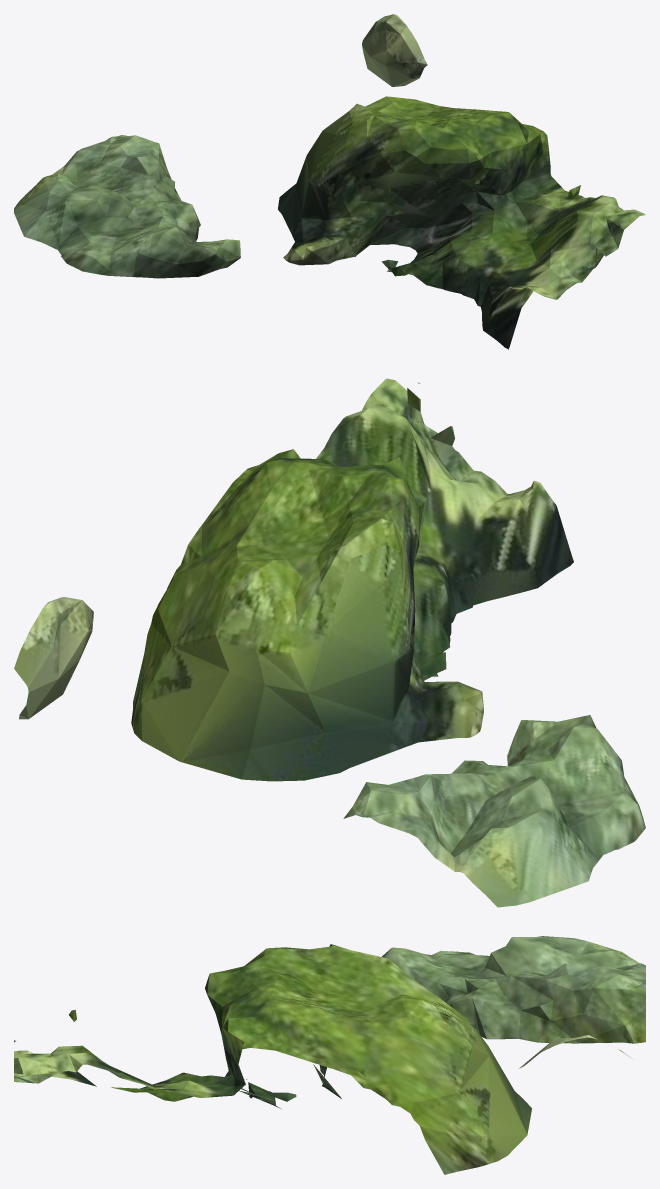
3 renders of one model, top to bottom at view 1: azimuth 30°, elevation 25°; view 2: azimuth 150°, elevation 25°; view 3: azimuth 270°, elevation 25°, orthographic. The views are drawn at different scales.
Size of the model in its own units: 21.23 by 7.32 by 26.11.
2 materials, 2 textured.
